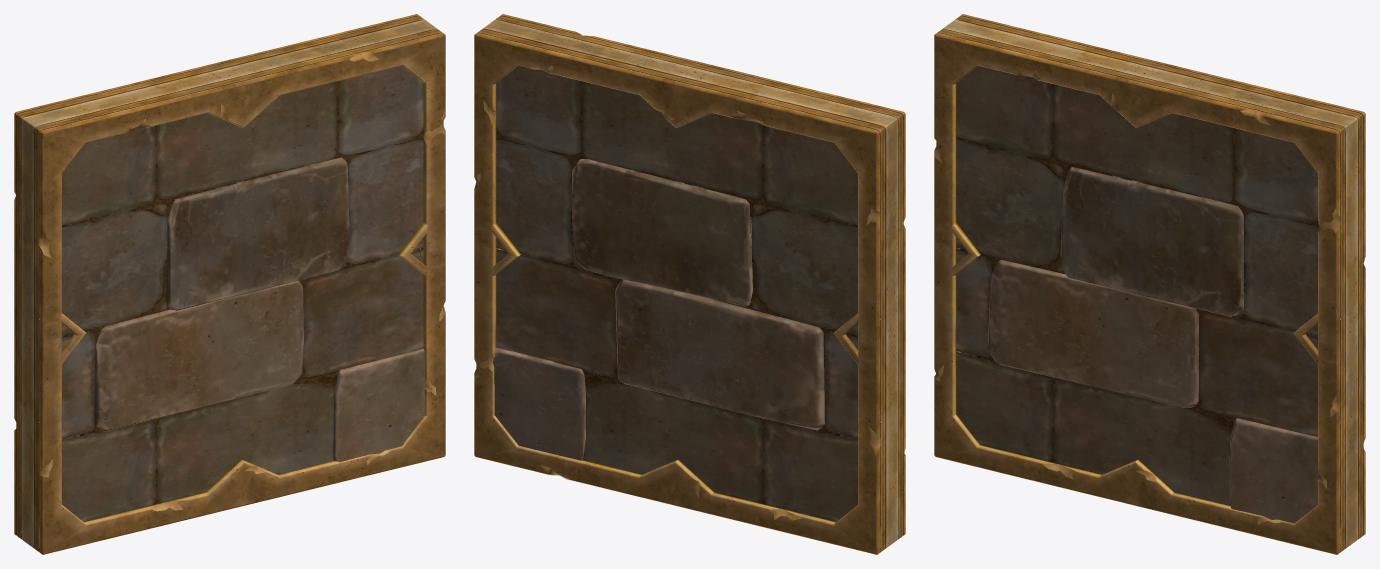
3 renders of one model, left to right at view 1: azimuth 30°, elevation 25°; view 2: azimuth 150°, elevation 25°; view 3: azimuth 330°, elevation 25°, orthographic.
Parts seen in each view (by area): view 1: SM_AgilityWall_4x4_LOD0; view 2: SM_AgilityWall_4x4_LOD0; view 3: SM_AgilityWall_4x4_LOD0.
Boxes of the visible parts, box(x1,y1,x2,y2) form: SM_AgilityWall_4x4_LOD0: box(14, 14, 445, 554); SM_AgilityWall_4x4_LOD0: box(474, 14, 905, 554); SM_AgilityWall_4x4_LOD0: box(934, 14, 1365, 554).
Size of the model in its own units: 4 by 4 by 0.5386.
Materials: 3 (3 with a texture image).
